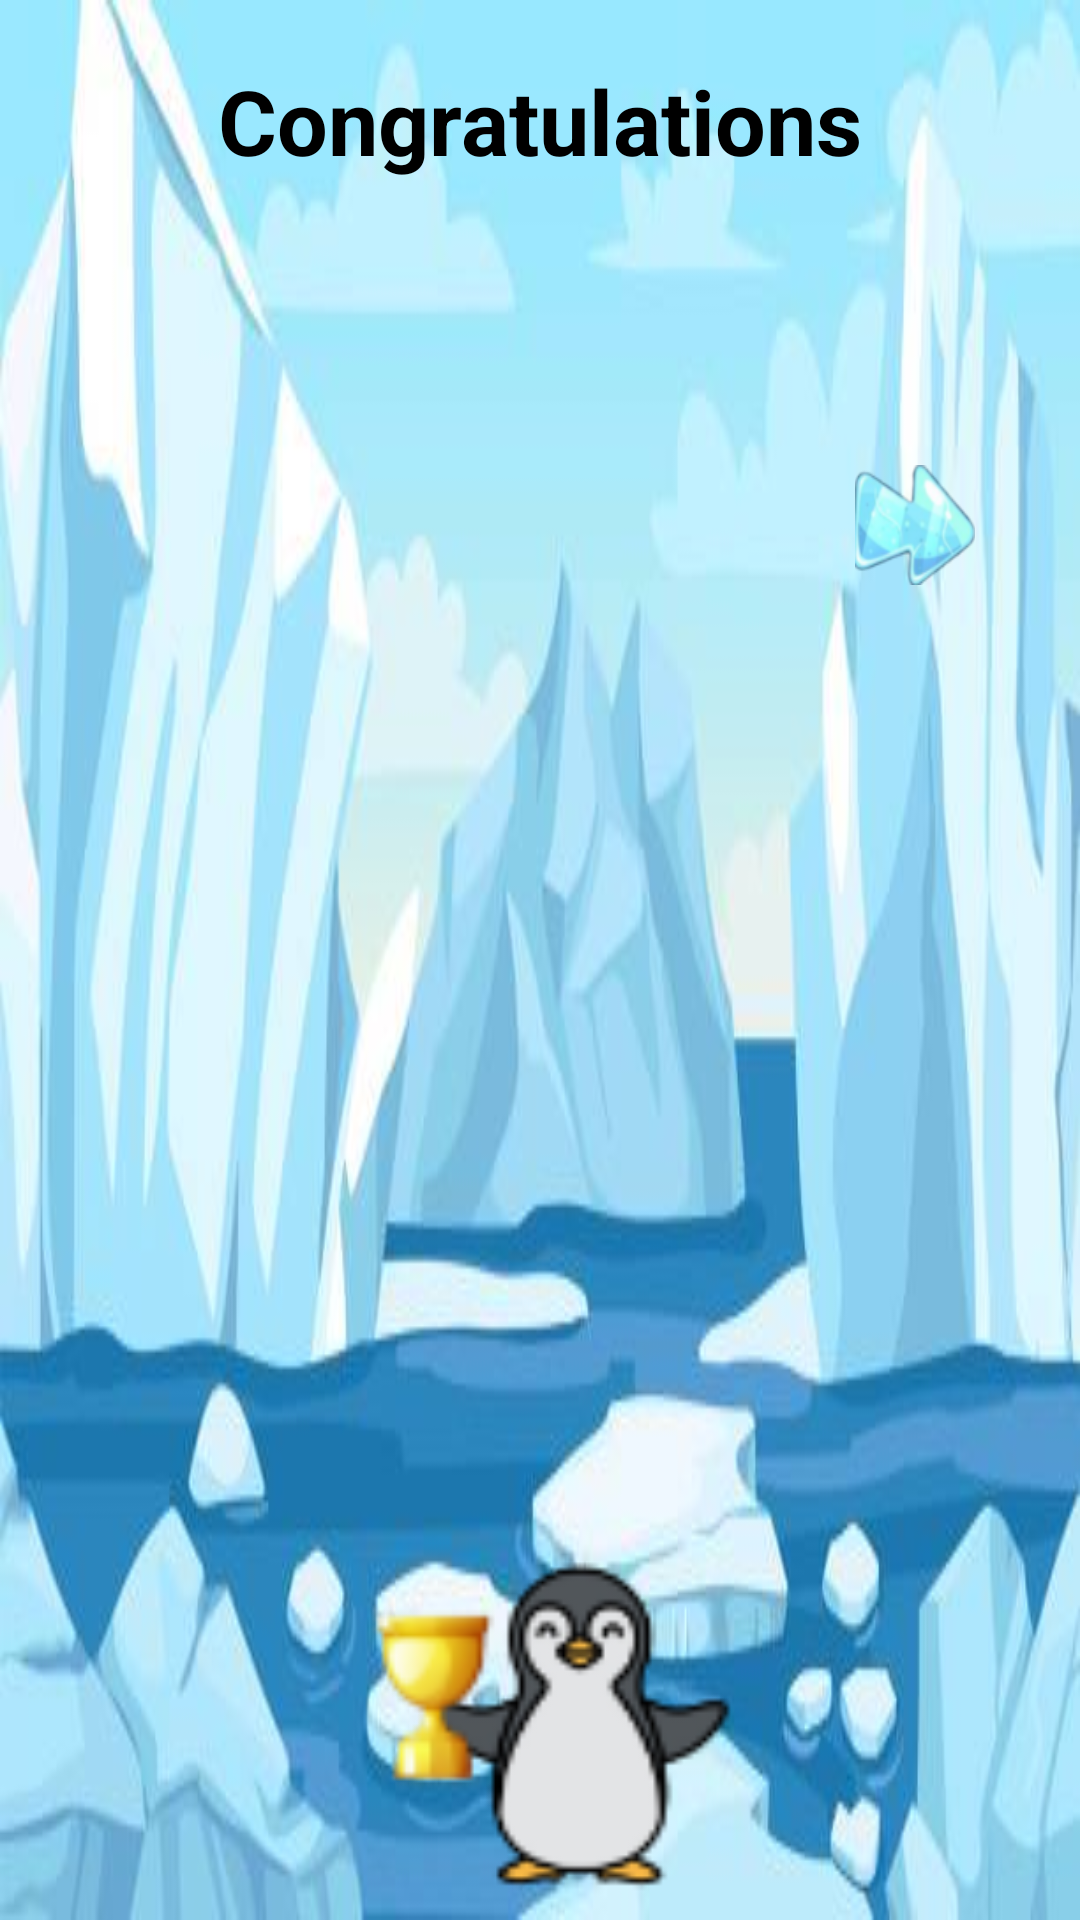

Icon click points for this 1080 x 1920 phone screenshot, format (x=x, y=y):
arrow when finished level: (x=915, y=525)
